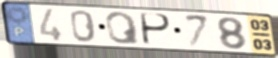0: (69, 9, 97, 44)
4: (38, 7, 65, 43)
7: (184, 13, 211, 50)
8: (216, 16, 250, 51)
P: (140, 11, 173, 47)
Q: (103, 10, 142, 45)
